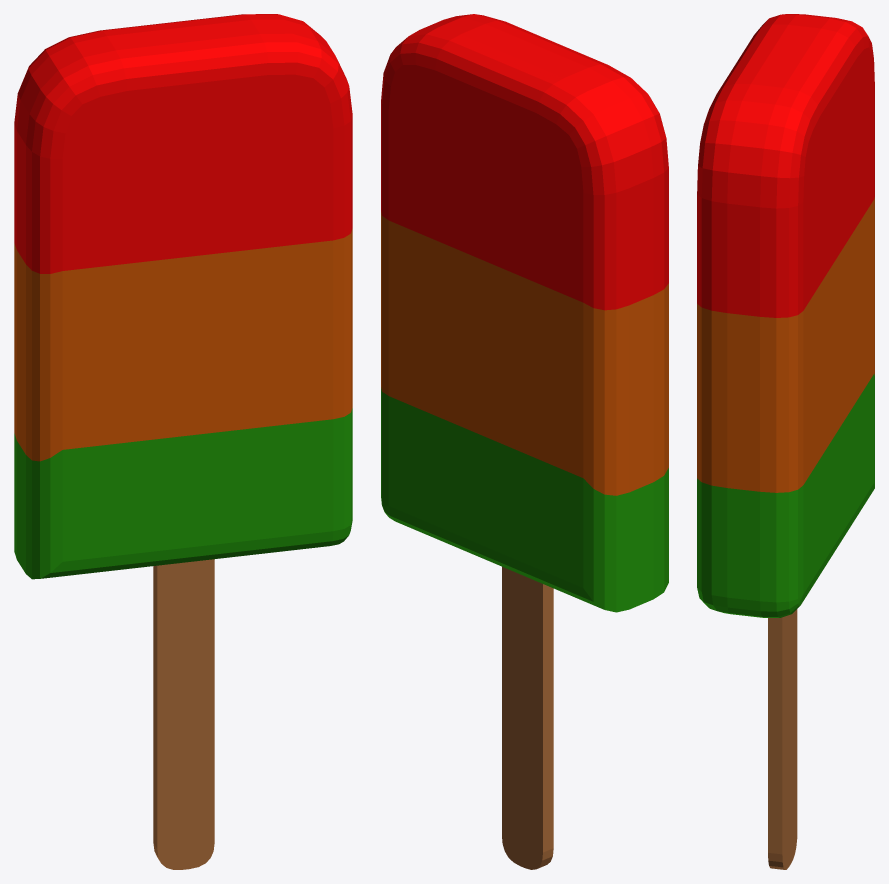
The model's file is Popsicle.obj.
3 views of the same model, side by side, from view 1: azimuth 30°, elevation 25°; view 2: azimuth 150°, elevation 25°; view 3: azimuth 270°, elevation 25° (orthographic). The views are drawn at different scales.
Visible parts, largest first — view 1: Box003, Box004; view 2: Box003, Box004; view 3: Box003, Box004.
Boxes of the visible parts, bbox=[...] form: Box003: bbox=[14, 14, 352, 579]; Box004: bbox=[153, 559, 214, 869]; Box003: bbox=[381, 14, 668, 612]; Box004: bbox=[502, 567, 553, 869]; Box003: bbox=[697, 14, 874, 617]; Box004: bbox=[768, 609, 797, 869].
Bounding box in the file's own units: 652634 × 1764700 × 351600.
